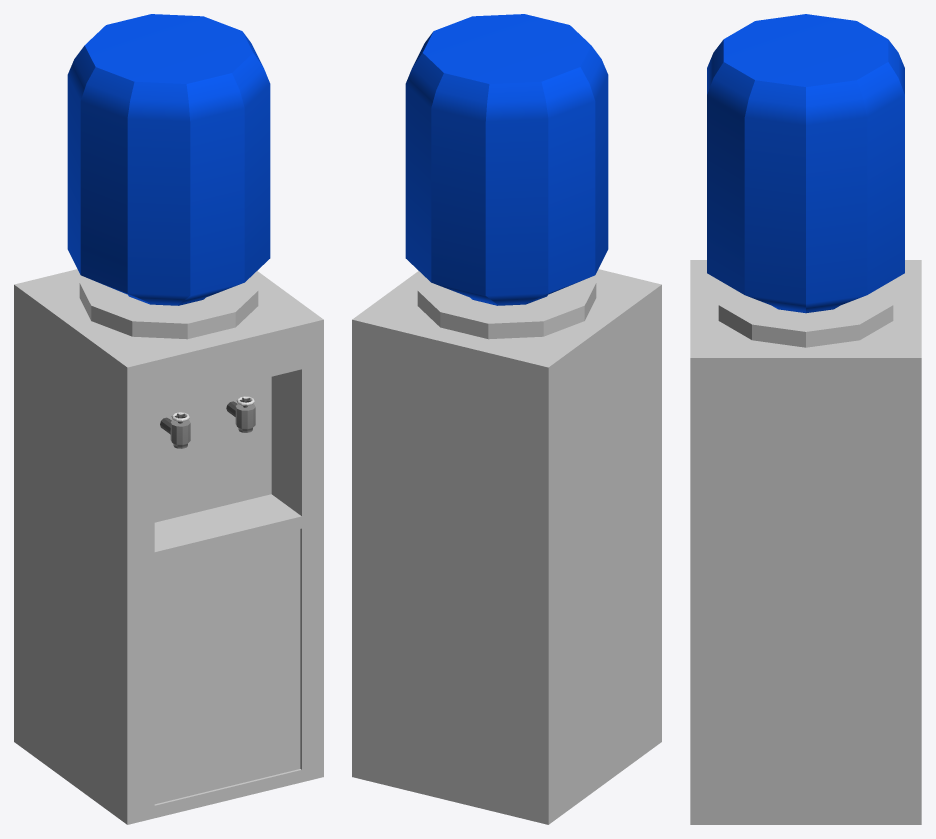
The model's file is machine a eau.fbx.
3 renders of one model, left to right at view 1: azimuth 30°, elevation 25°; view 2: azimuth 150°, elevation 25°; view 3: azimuth 270°, elevation 25°, orthographic. The views are drawn at different scales.
Parts seen in each view (by area): view 1: pCube1, pCylinder7, pCylinder8; view 2: pCube1, pCylinder7, pCylinder8; view 3: pCube1, pCylinder7, pCylinder8.
Part boxes in pixels (left/top/right/bottom): pCube1: left=14, top=269, right=323, bottom=824; pCylinder7: left=67, top=14, right=270, bottom=305; pCylinder8: left=79, top=277, right=258, bottom=339; pCube1: left=352, top=269, right=661, bottom=824; pCylinder7: left=405, top=14, right=608, bottom=305; pCylinder8: left=417, top=277, right=596, bottom=339; pCube1: left=690, top=260, right=921, bottom=824; pCylinder7: left=707, top=14, right=904, bottom=313; pCylinder8: left=718, top=281, right=893, bottom=347.
Size of the model in its own units: 1.67 by 5.78 by 1.67.
